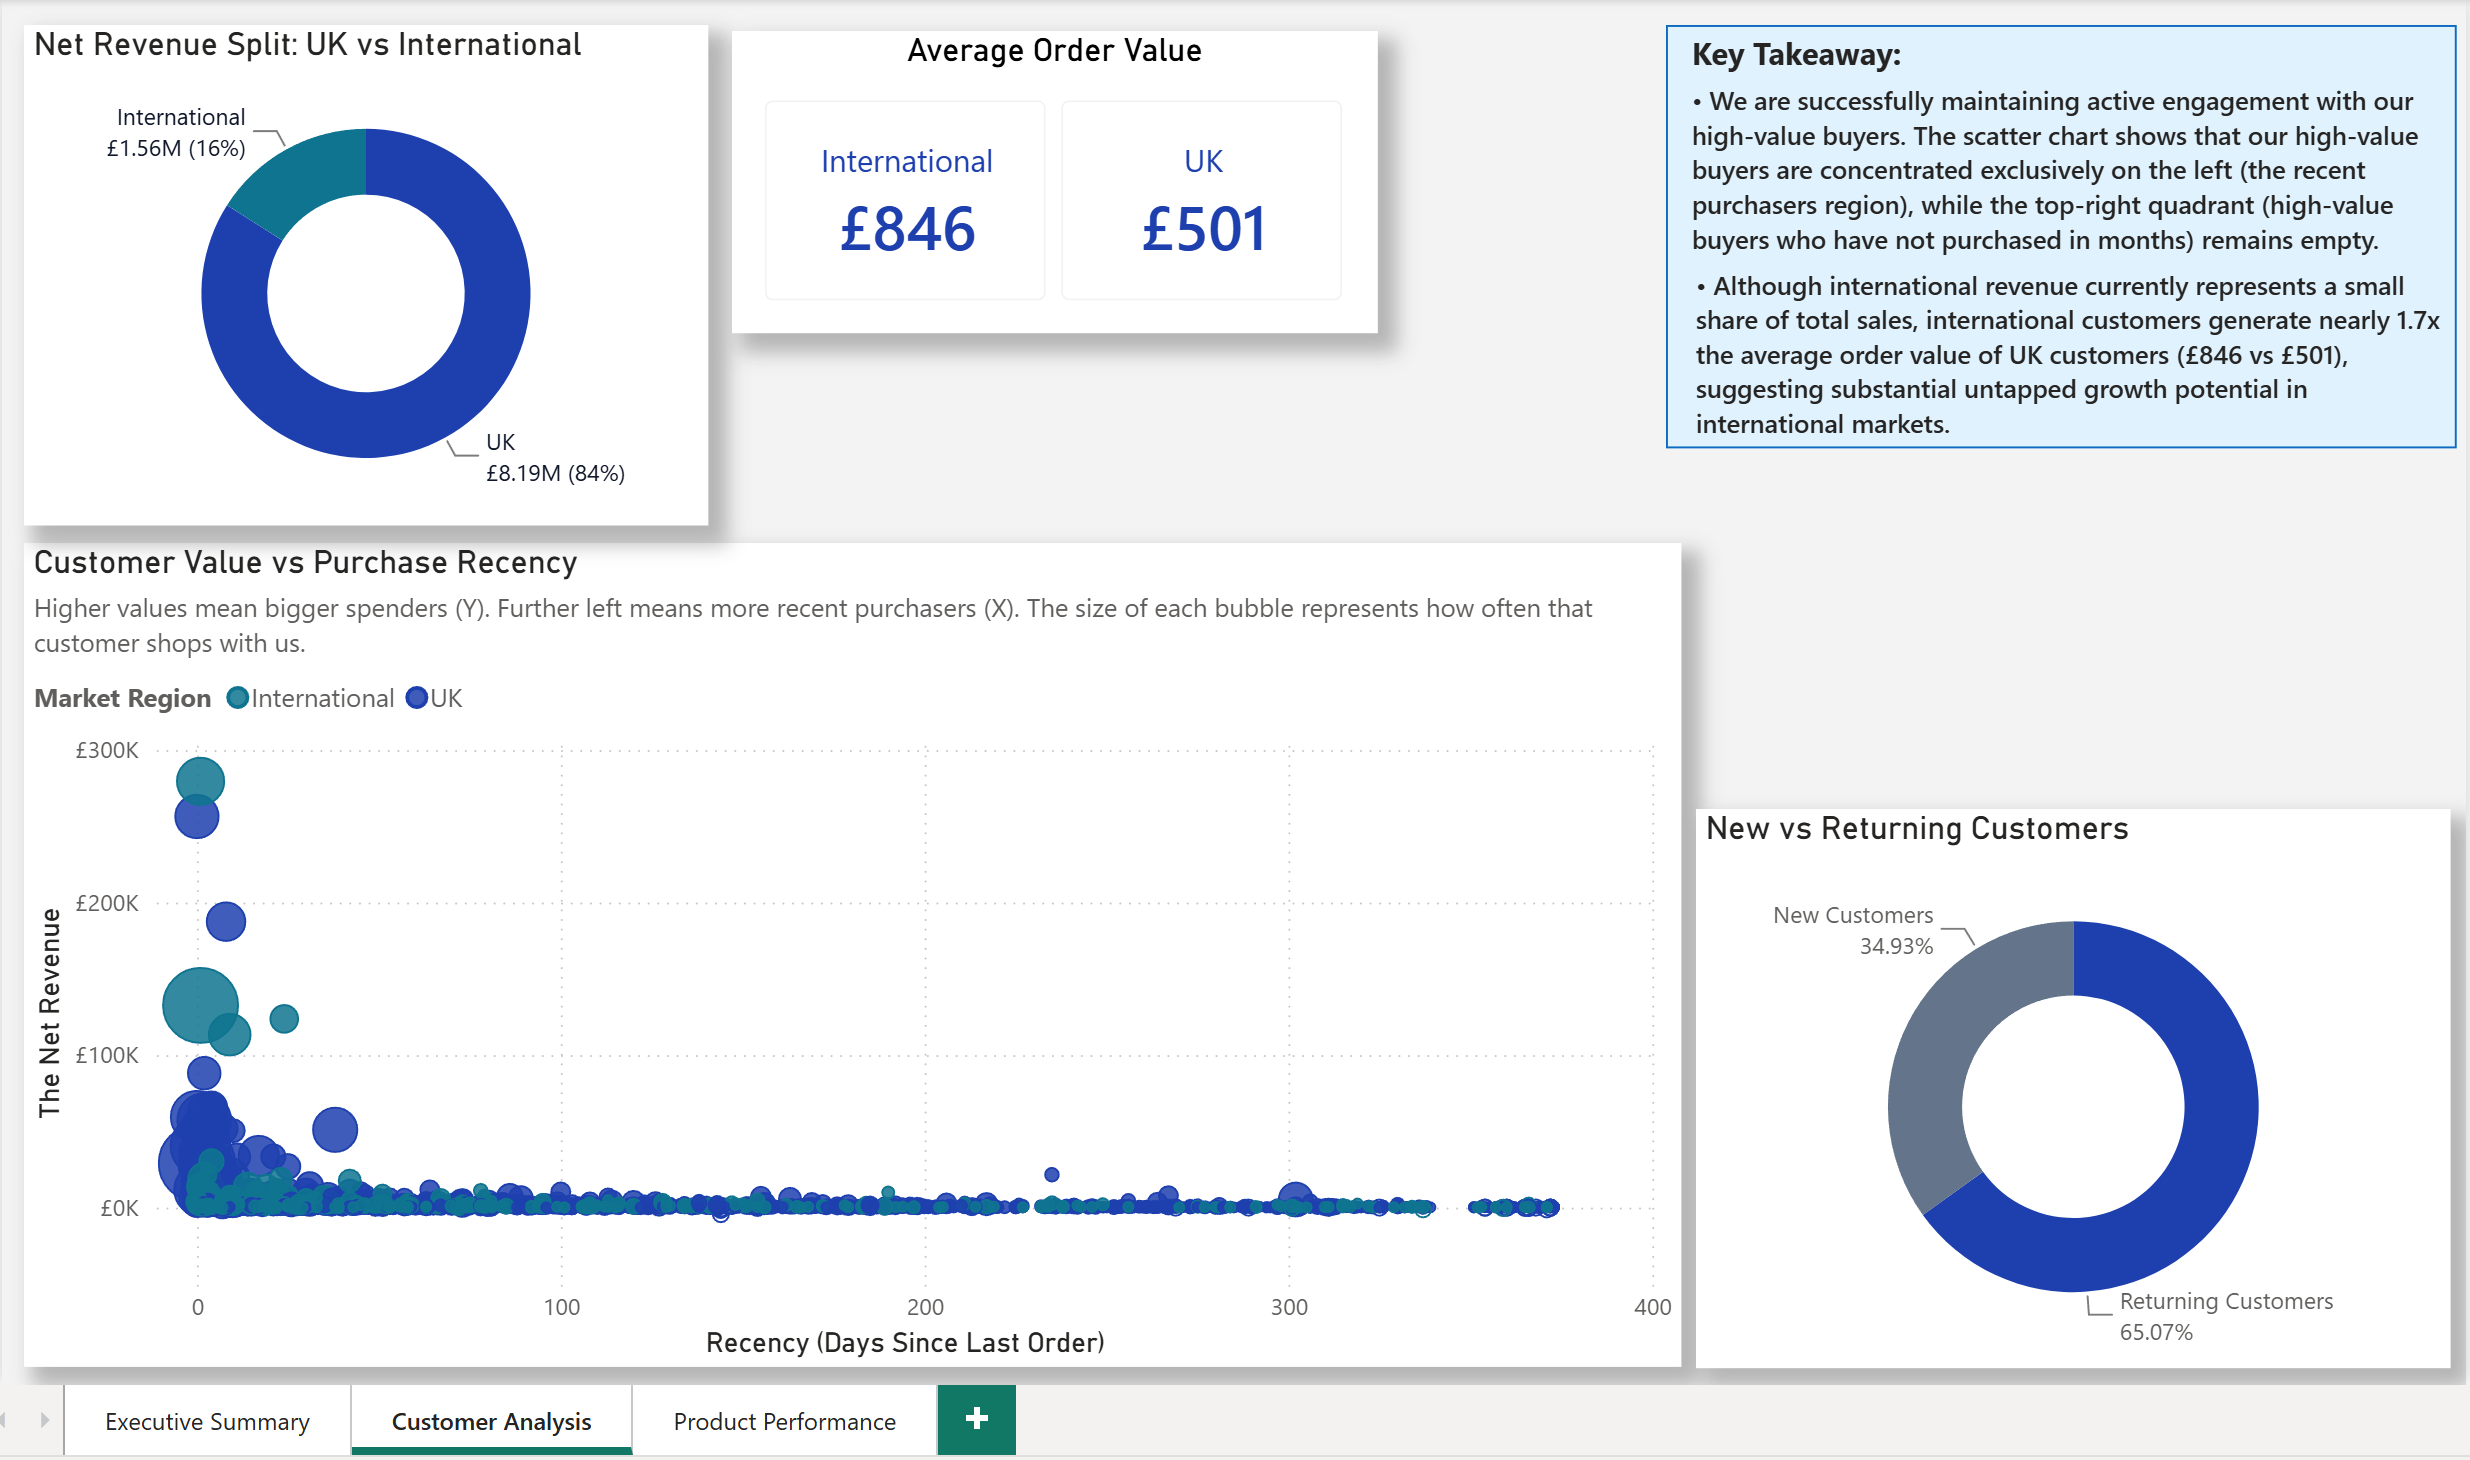

The dashboard page shown, as its layout file describes it:
{"tool":"powerbi","page":{"name":"Customer Analysis","canvas":[1280,720],"ordinal":1},"visuals":[{"type":"scatterChart","title":"Customer Value vs Purchase Recency","fields":{"X":["#Measures.Recency (Days Since Last Order)"],"Y":["#Measures.Net Revenue"],"Size":["#Measures.Purchase Frequency"],"Category":["data.CustomerID"],"Series":["data.UK vs International"]},"box":[11.3,282.4,860.9,428.2],"z":0},{"type":"donutChart","title":"Net Revenue Split: UK vs International","fields":{"Y":["#Measures.Net Revenue"],"Category":["data.UK vs International"]},"box":[11.3,13.6,355.3,259.8],"z":2000},{"type":"shape","box":[864.6,14,410.8,219.9],"z":3000},{"type":"cardVisual","title":"Average Order Value","fields":{"Data":["#Measures.International AOV","#Measures.Domestic UK AOV"]},"box":[379,16.4,335.5,157],"z":4000},{"type":"donutChart","title":"New vs Returning Customers","fields":{"Category":["data.Customer Type"],"Y":["Count(data.CustomerID)"]},"box":[880.1,420.3,392,290.3],"z":6000},{"type":"textbox","title":"Key Takeaway:","box":[872.7,16.3,399.1,133.8],"z":7000},{"type":"textbox","box":[875.1,133.8,404.9,118.7],"z":8000}]}

Visuals, with their boxes on the page's 1280x720 design canvas (x1, y1, x2, y2). These are canvas units, not pixel positions in the 2470x1460 screenshot, which may show the page scaled, cropped or inside an application window:
"Customer Value vs Purchase Recency" scatterChart: 11,282,872,711
"Net Revenue Split: UK vs International" donutChart: 11,14,367,273
shape: 865,14,1275,234
"Average Order Value" cardVisual: 379,16,714,173
"New vs Returning Customers" donutChart: 880,420,1272,711
"Key Takeaway:" textbox: 873,16,1272,150
textbox: 875,134,1280,252
